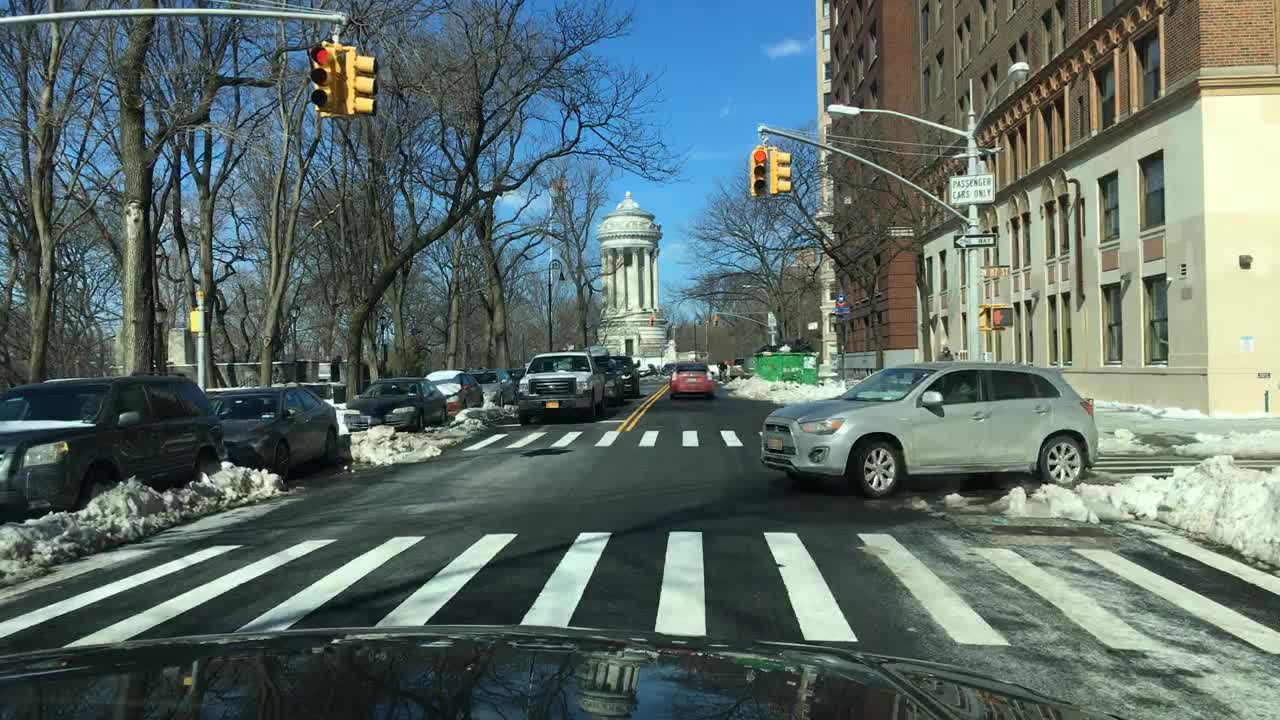car: (759, 361, 1097, 499), (0, 374, 226, 516), (207, 388, 341, 482), (509, 346, 604, 422), (341, 374, 449, 435), (422, 368, 482, 417), (584, 347, 624, 401), (469, 366, 516, 403), (668, 359, 712, 398), (611, 354, 641, 400), (509, 369, 530, 390), (730, 354, 744, 381), (658, 361, 675, 383)
person: (714, 356, 727, 385), (935, 346, 955, 361)
traffic light: (309, 40, 341, 116), (347, 50, 379, 118), (773, 145, 789, 197), (749, 145, 764, 192), (989, 307, 1016, 329), (187, 307, 202, 329), (646, 314, 656, 327), (710, 314, 719, 327)
traffic sign: (948, 175, 995, 204), (951, 229, 995, 250), (978, 263, 1011, 280), (830, 292, 852, 315)
